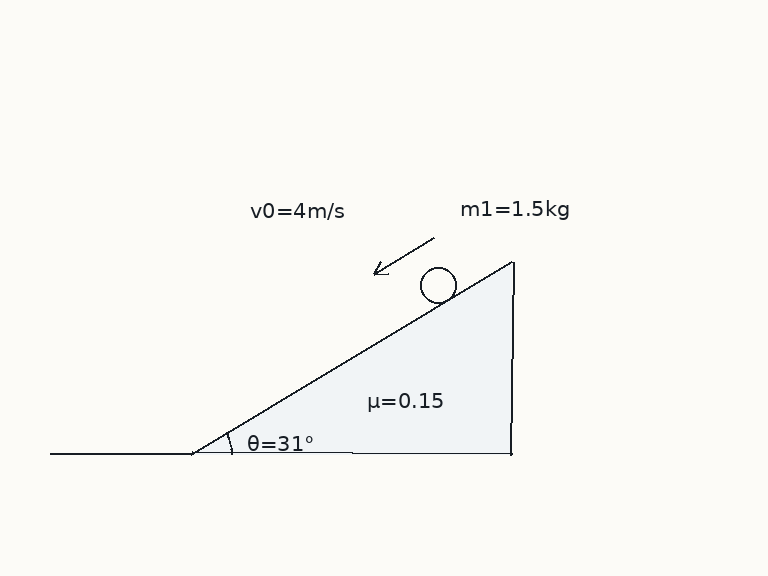ball: (418, 265, 458, 305)
ramp: (190, 260, 514, 456)
